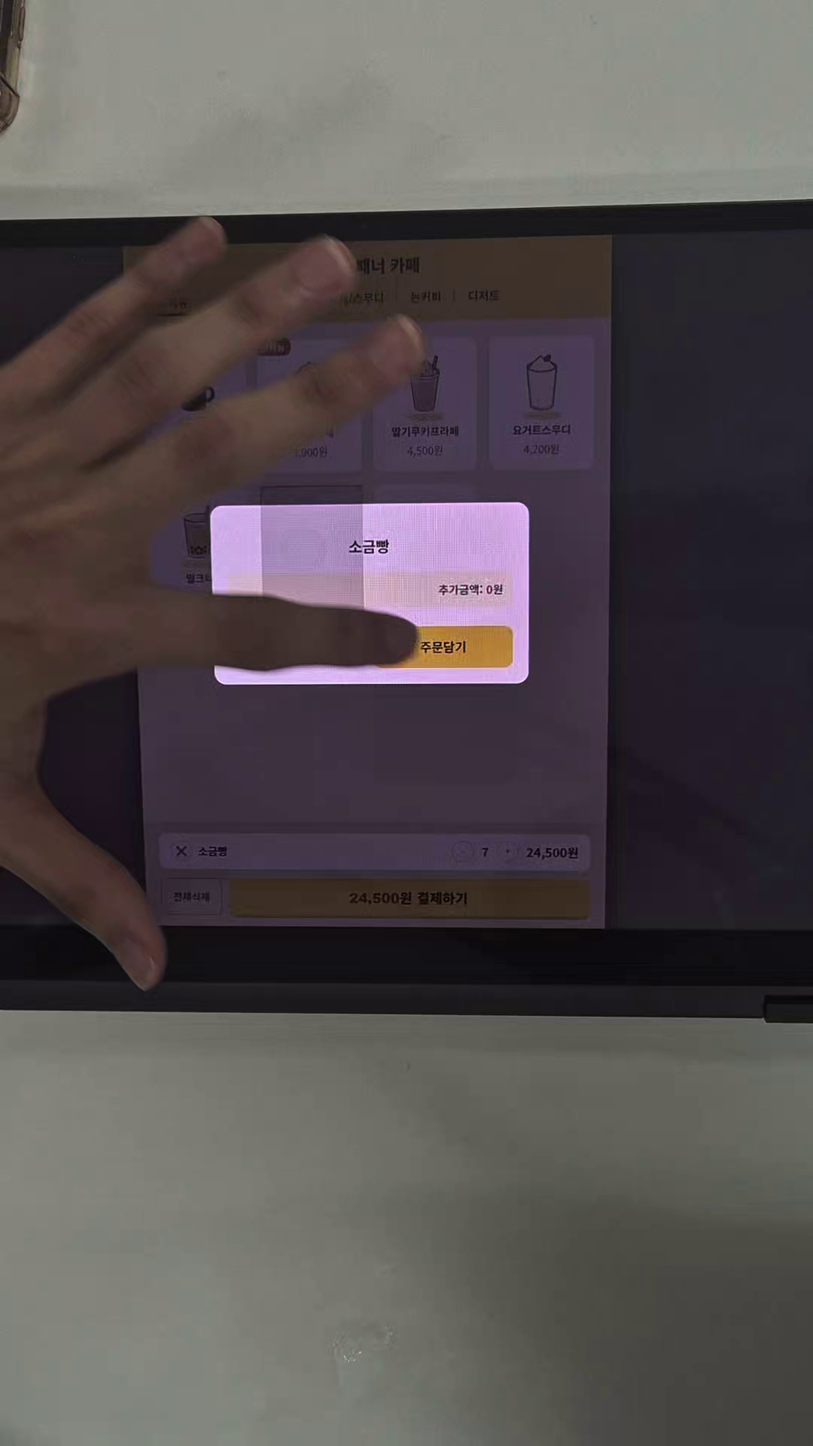action_button: (376, 623, 515, 670)
popup_modal: (211, 503, 526, 687)
